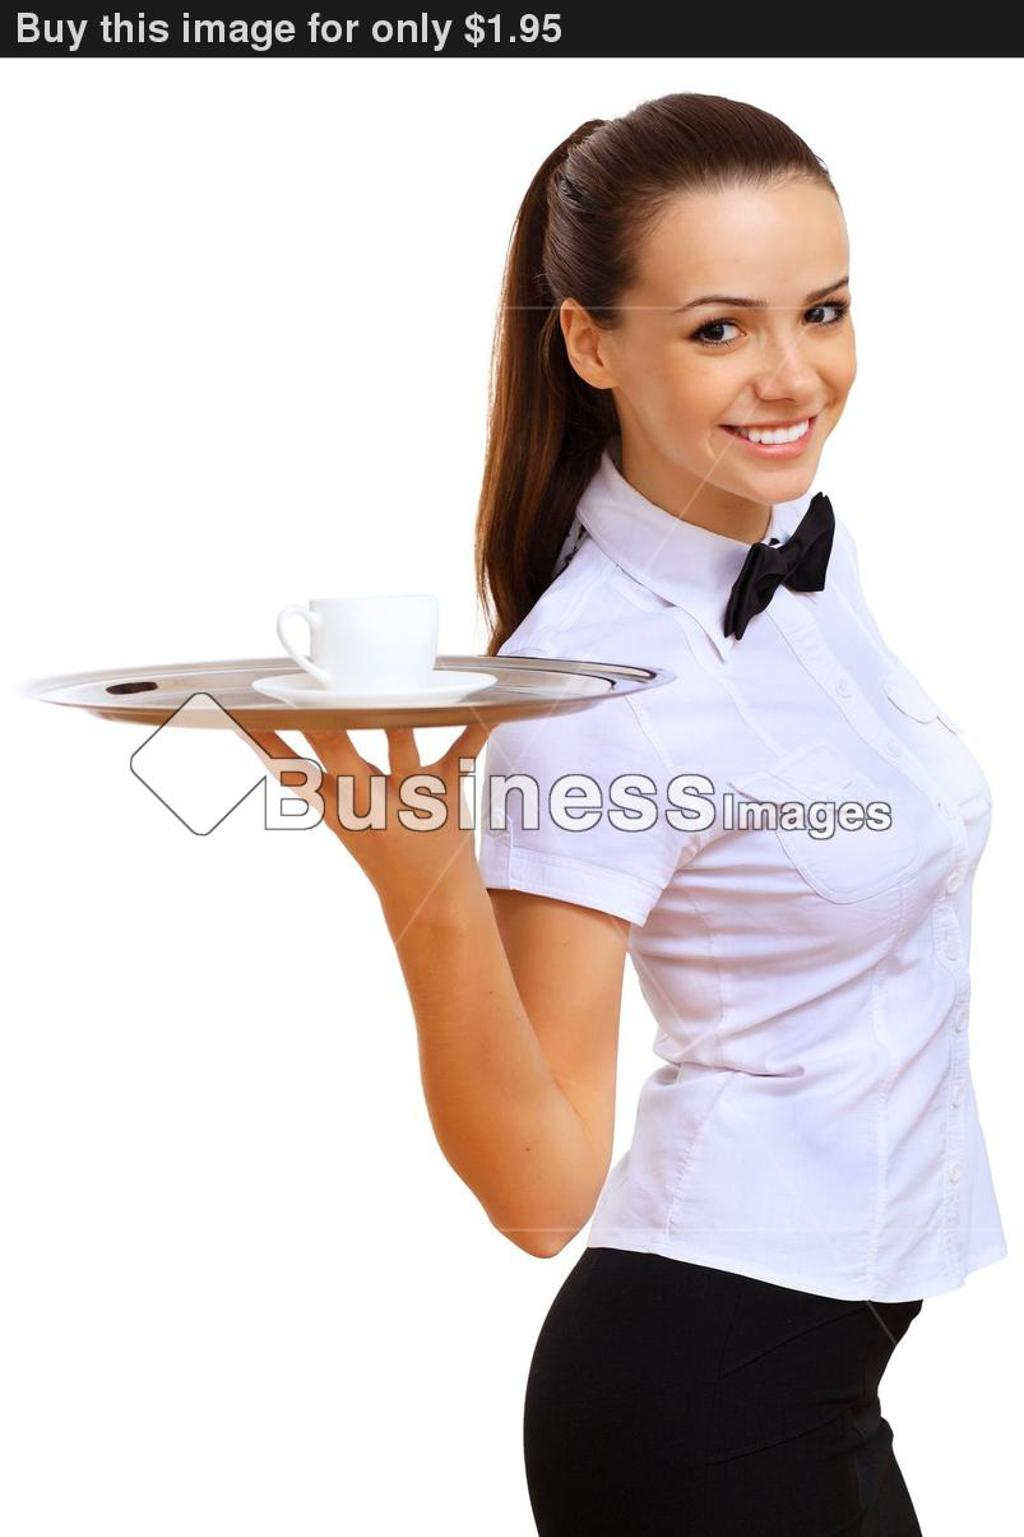face: (616, 162, 856, 498)
